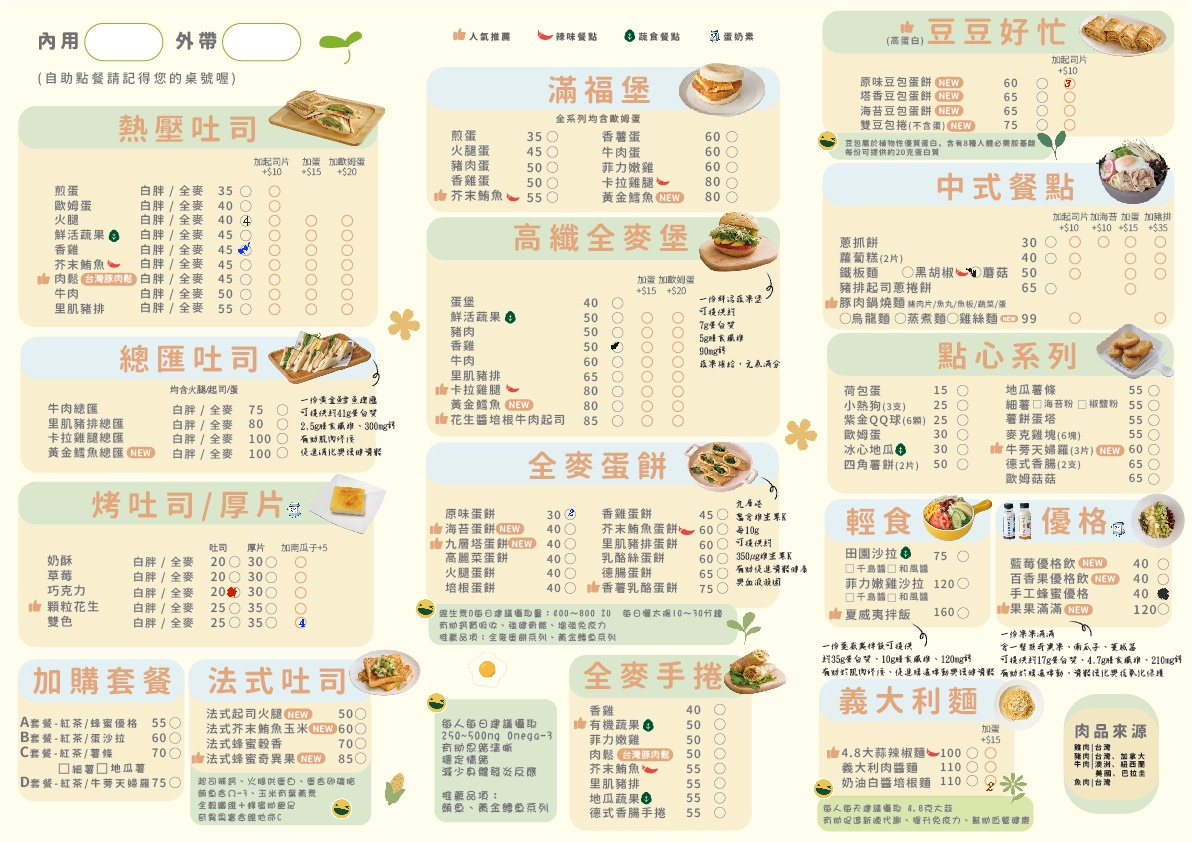marked_circle: (1157, 588, 1167, 599), (227, 587, 237, 598)
marked_number_2: (985, 775, 995, 786), (564, 507, 574, 518)
marked_number_3: (1064, 78, 1074, 89)
marked_number_4: (294, 616, 304, 627), (240, 215, 250, 226)
marked_tick: (970, 266, 980, 277), (239, 244, 249, 255), (611, 343, 621, 354)
